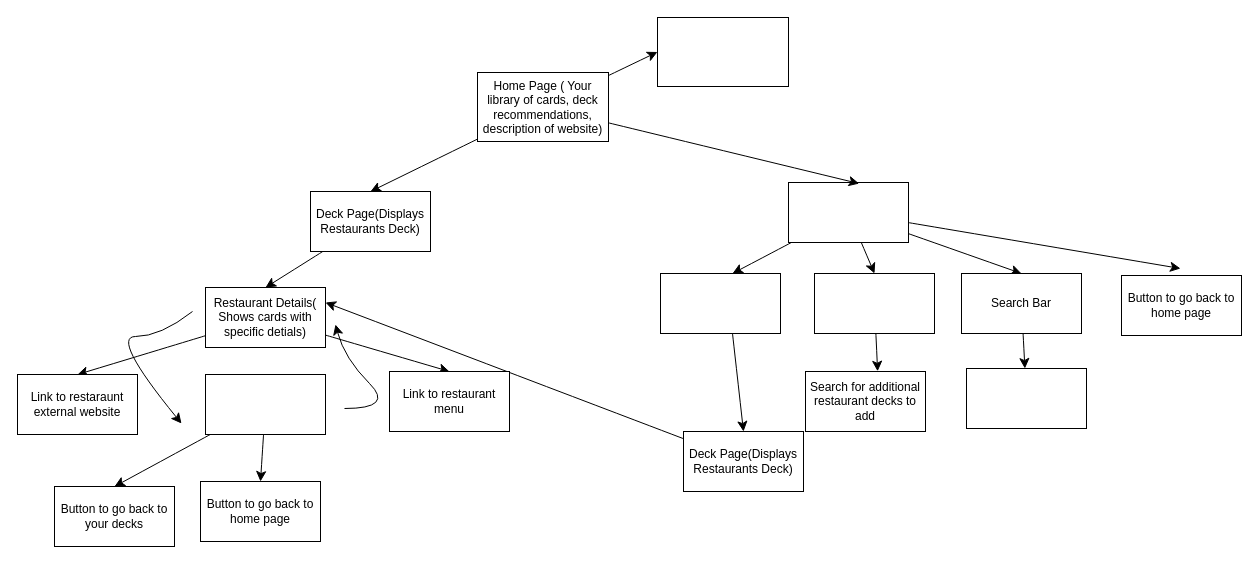
The diagram is 1259 pixels wide and 564 high, and some of its shapes have lost their labels. The shapes that lost their labels are listed below. From the top down, each one's centre as x and y in pixels, then its label:
At [722,51]: "Contact Us Button?".
At [848,212]: "Your Favorite Cards(Collection of card you favoraited)".
At [720,303]: "View Restaurant Deck".
At [874,303]: "Add Restaurant Deck".
At [265,404]: "Left/Right Movement to go to the next card".
At [1026,398]: "Search for decks in your library".
